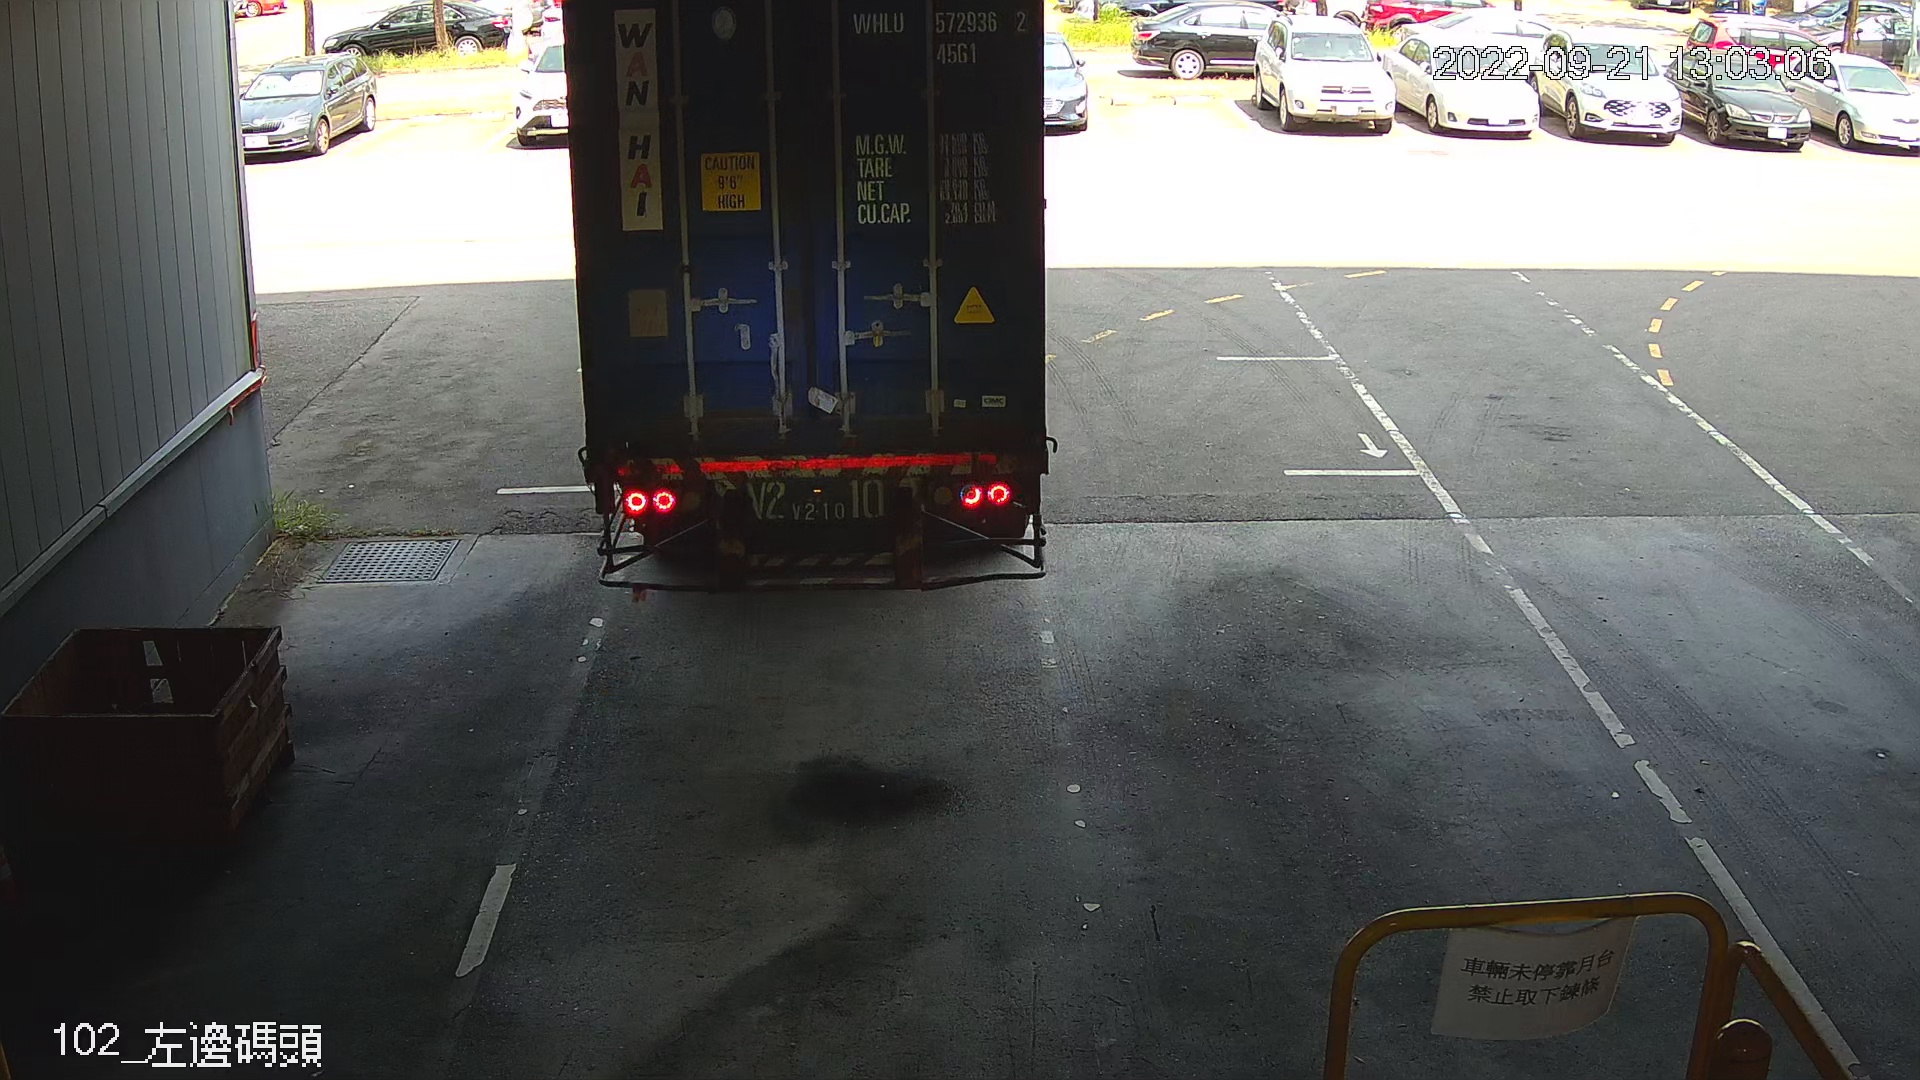container: (847, 3, 1035, 73)
